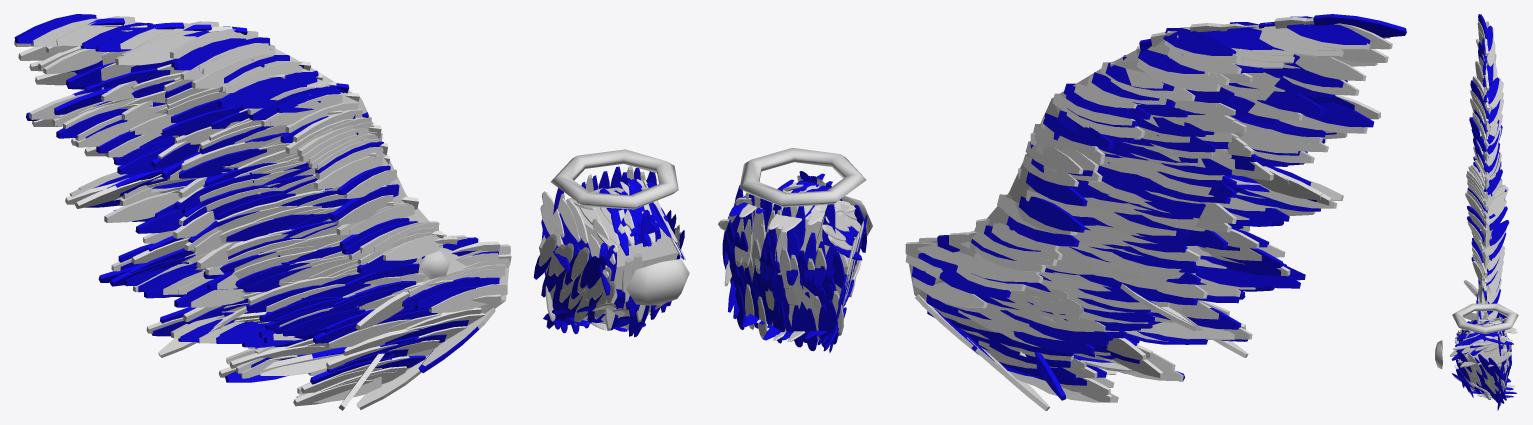
Rendered from enemy_texture_test.fbx.
3 views of the same model, side by side, from view 1: azimuth 30°, elevation 25°; view 2: azimuth 150°, elevation 25°; view 3: azimuth 270°, elevation 25° (orthographic). The views are drawn at different scales.
Parts seen in each view (by area): view 1: wing_high; view 2: wing_high; view 3: wing_high.
Boxes of the visible parts, box(x1,y1,x2,y2) form: wing_high: box(14, 14, 689, 410); wing_high: box(718, 14, 1406, 410); wing_high: box(1435, 14, 1518, 410).
Size of the model in its own units: 426 by 285 by 89.39.
